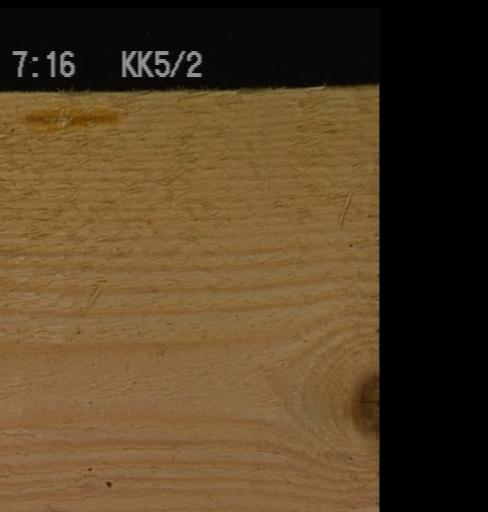sound_knot: (350, 368, 378, 441)
